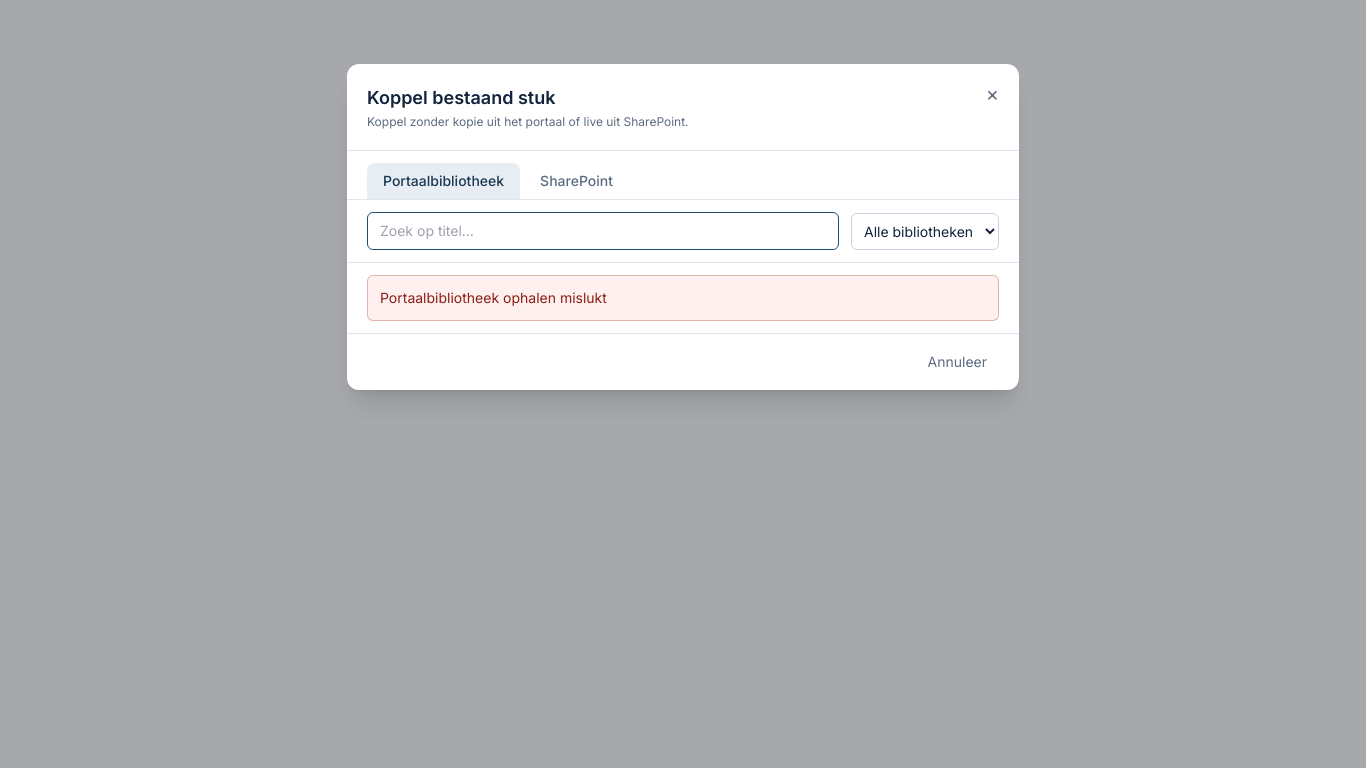
AgendapuntBronPicker › houdt SharePoint bruikbaar wanneer de portaalbibliotheek laden faalt
Expected: the message reads "Portaalbibliotheek ophalen mislukt", [380,289,607,306]
Click the tab "SharePoint": (577, 181) [524,163,629,199]
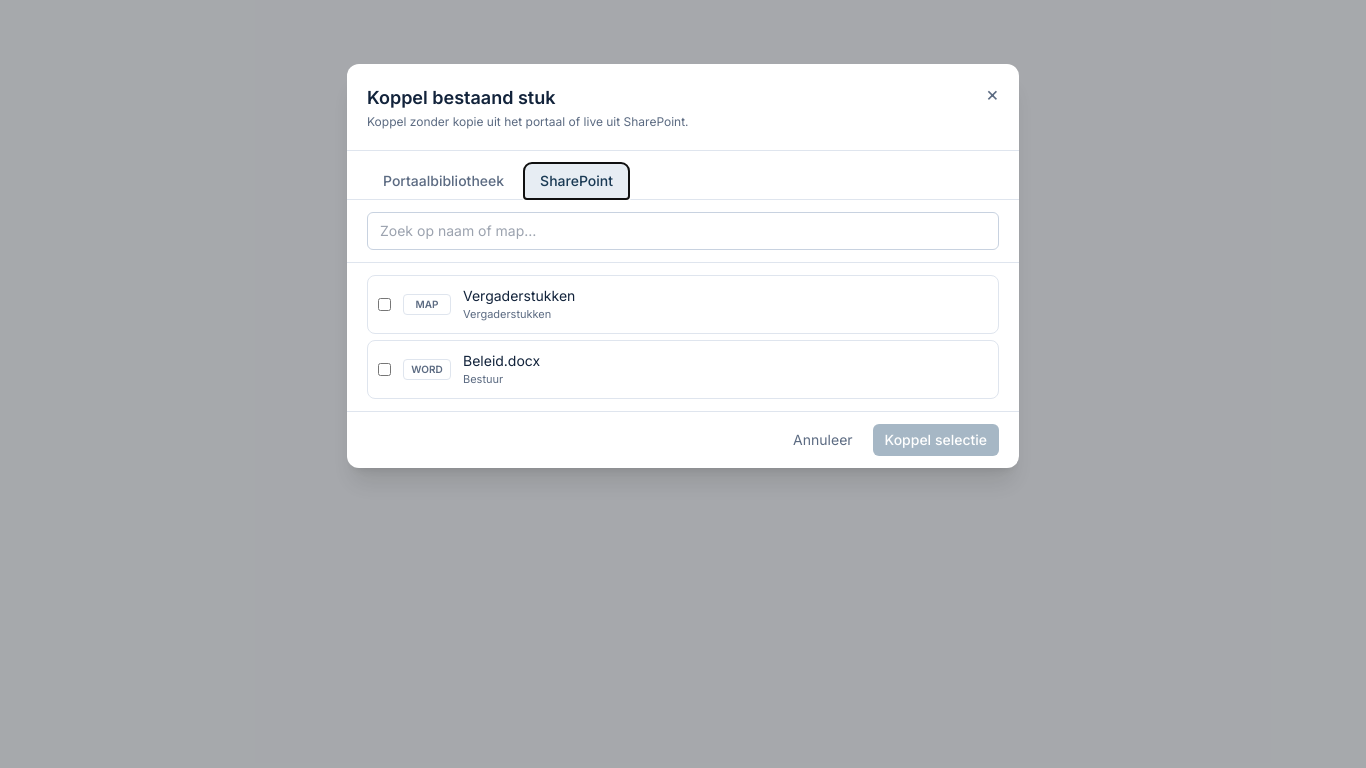
Result: the text "Beleid.docx" is shown at [463,351,540,371]
Result: the checkbox named "Selecteer Vergaderstukken" is shown at [378,298,391,311]
Result: the message "Portaalbibliotheek ophalen mislukt" is gone
